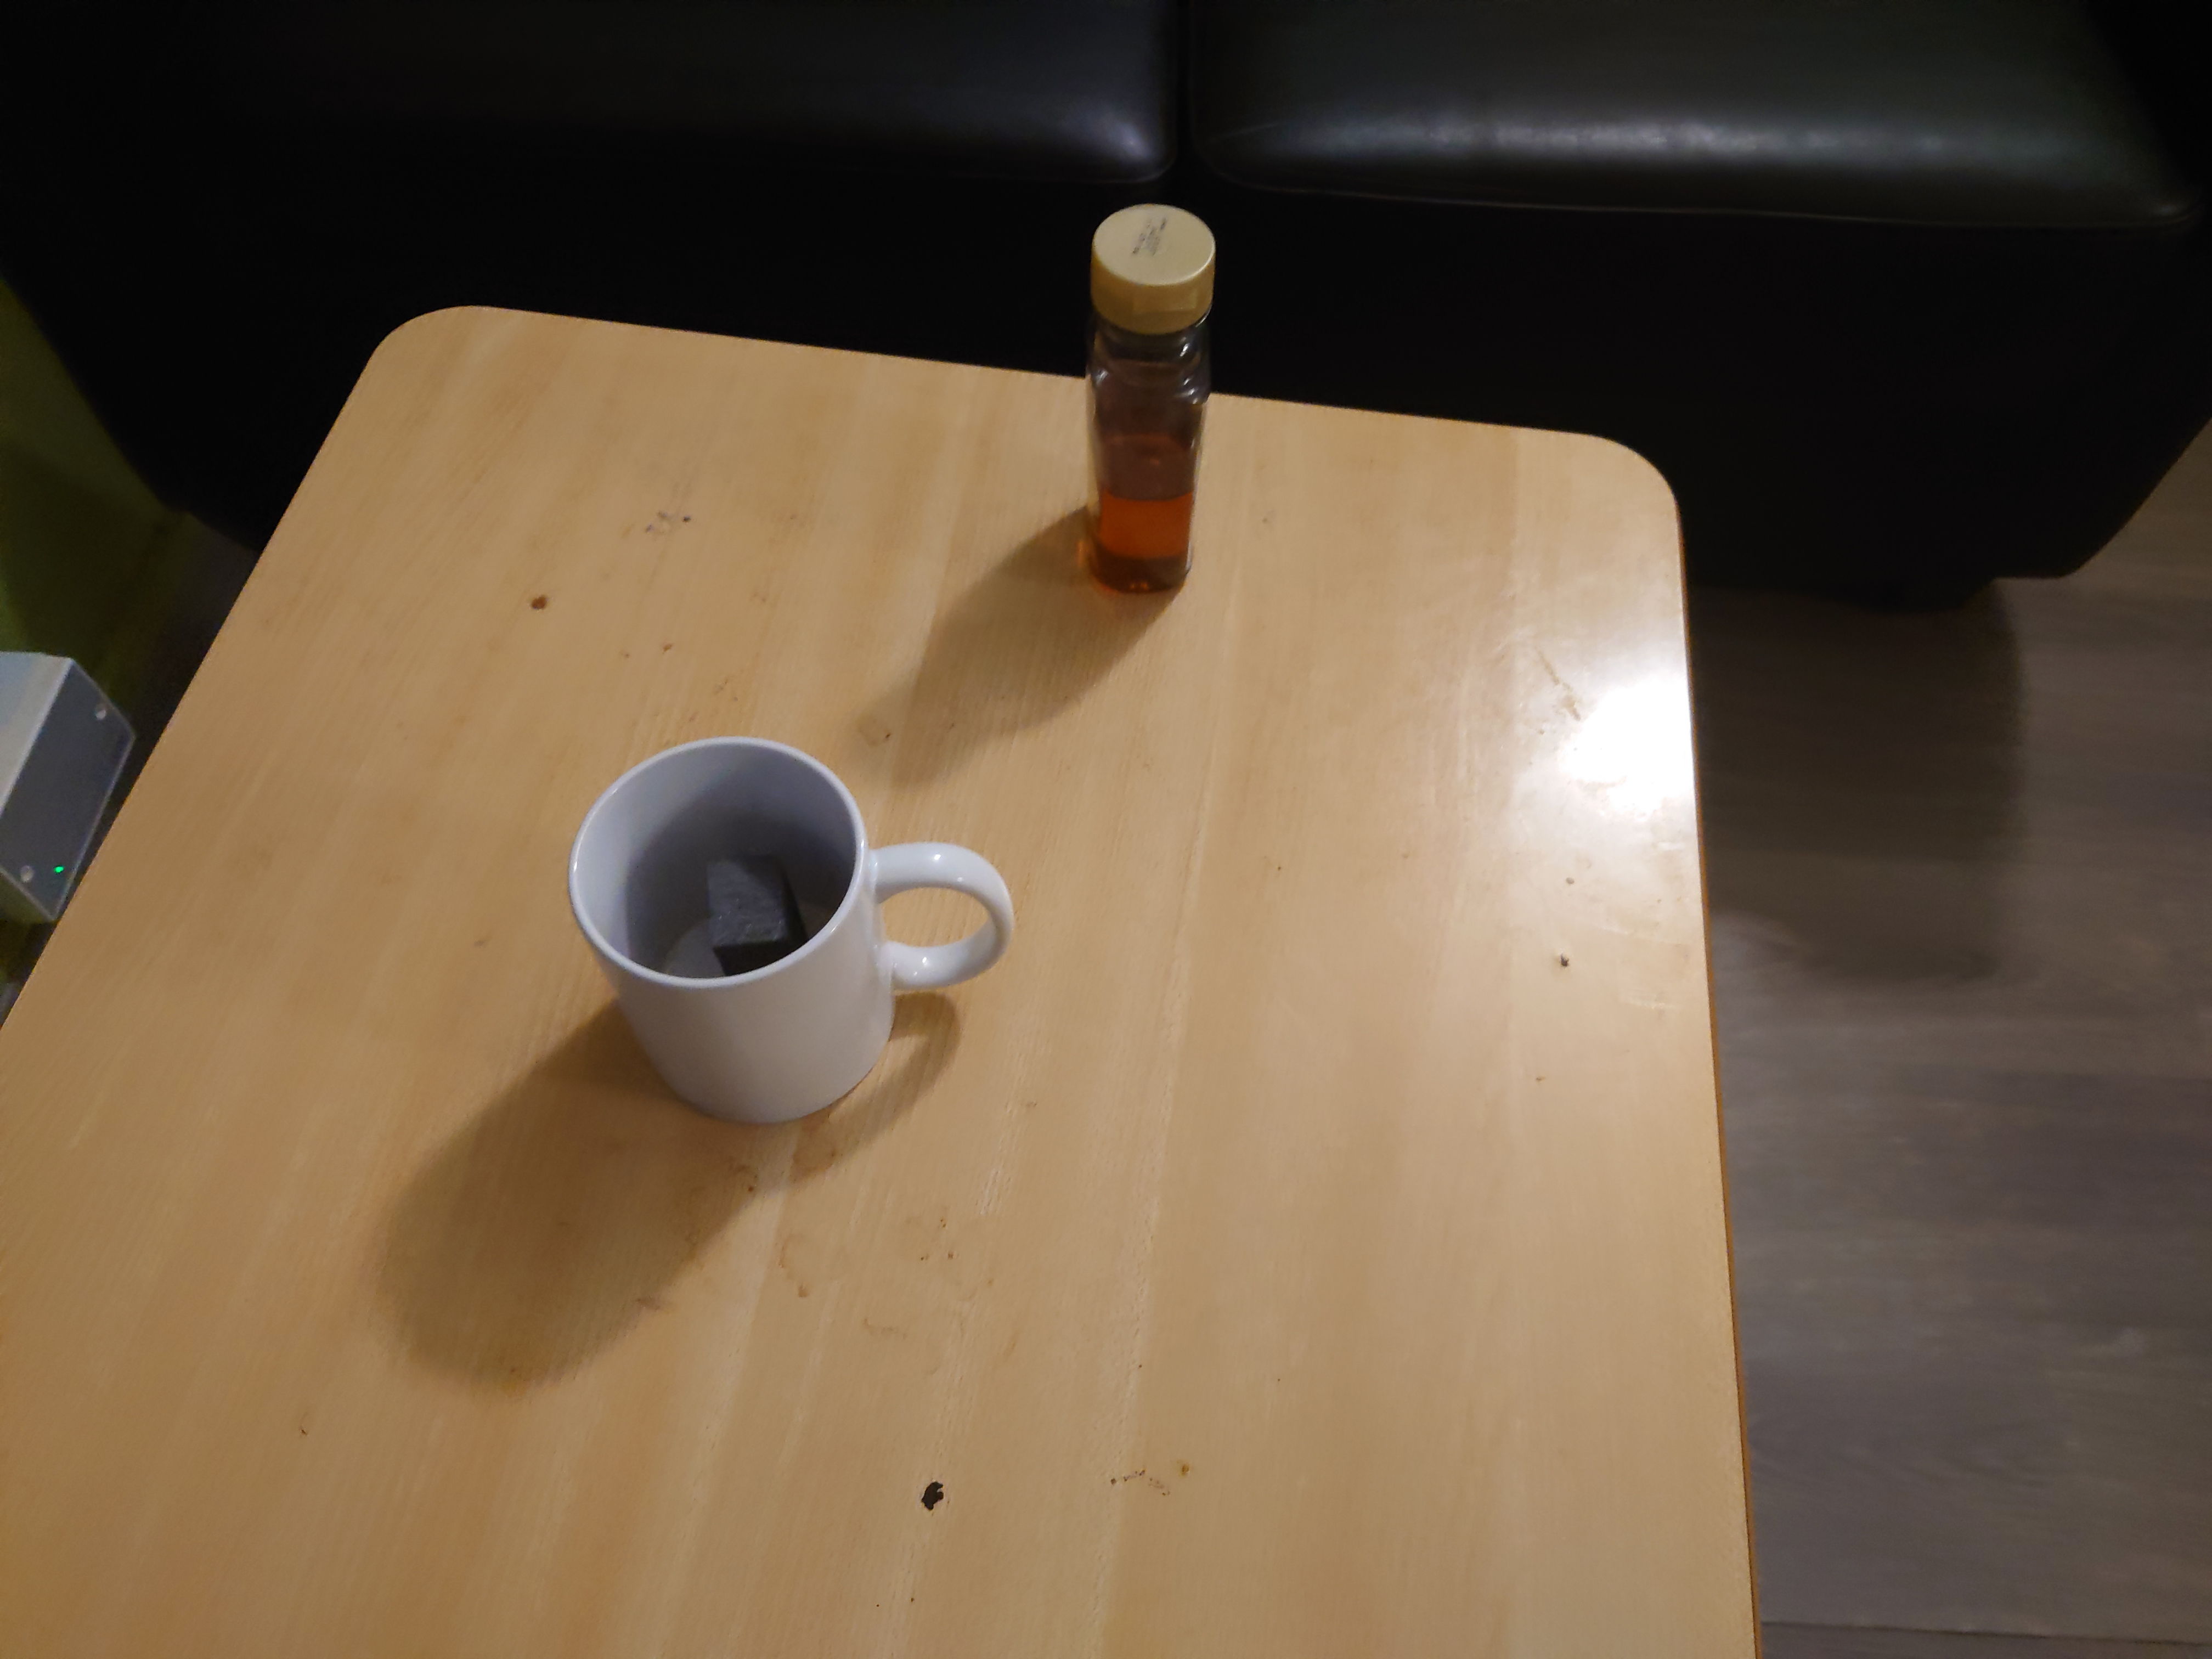cup: (578, 730, 1015, 1131)
target: (697, 852, 827, 1049)
